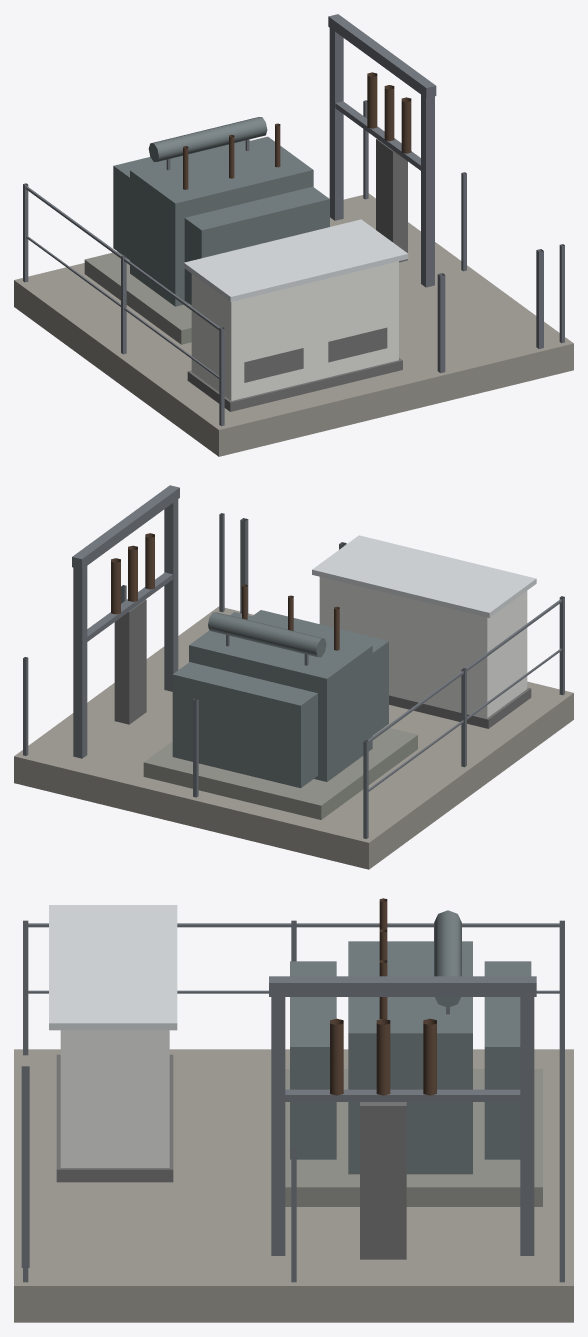
File: mashup-power-top-prebuilt.fbx
The picture shows the model from 3 angles, top to bottom: view 1: azimuth 30°, elevation 25°; view 2: azimuth 150°, elevation 25°; view 3: azimuth 270°, elevation 25°; orthographic projection. The views are drawn at different scales.
Parts seen in each view (by area): view 1: a1074/0/mashup-power-top-prebuilt; view 2: a1074/0/mashup-power-top-prebuilt; view 3: a1074/0/mashup-power-top-prebuilt.
Boxes of the visible parts, x1,y1,x2,y2 form: a1074/0/mashup-power-top-prebuilt: [14, 14, 573, 456]; a1074/0/mashup-power-top-prebuilt: [14, 485, 573, 869]; a1074/0/mashup-power-top-prebuilt: [14, 898, 573, 1322].
Bounding box in the file's own units: 7.2 × 4.4 × 7.2.
